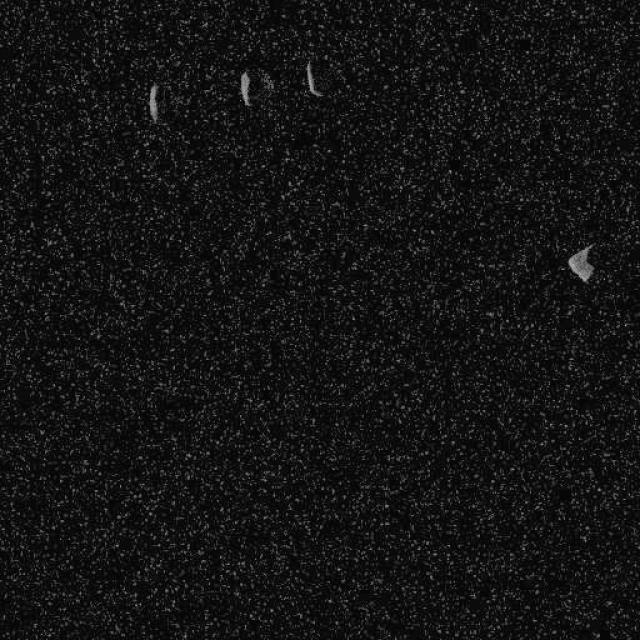D2: (566, 242, 595, 282), (305, 62, 325, 98), (146, 81, 160, 122), (239, 70, 251, 106)
